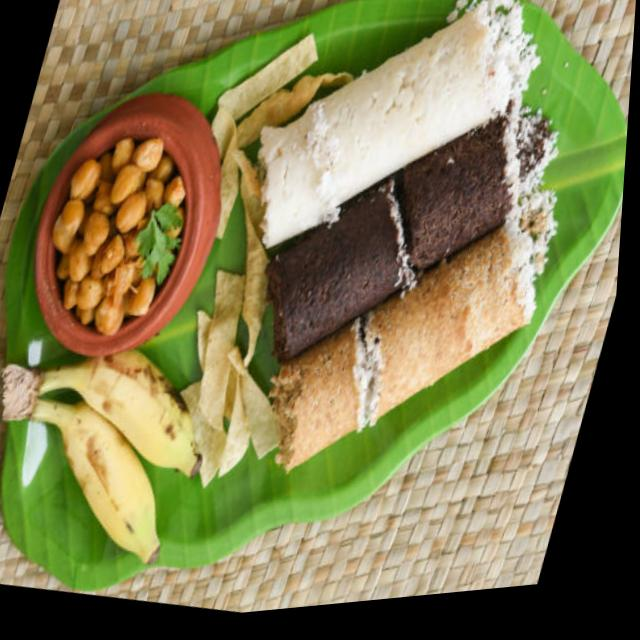BANANA: (0, 349, 204, 565)
PUTTU: (256, 0, 563, 477)
SUNDAL: (49, 135, 185, 338)
